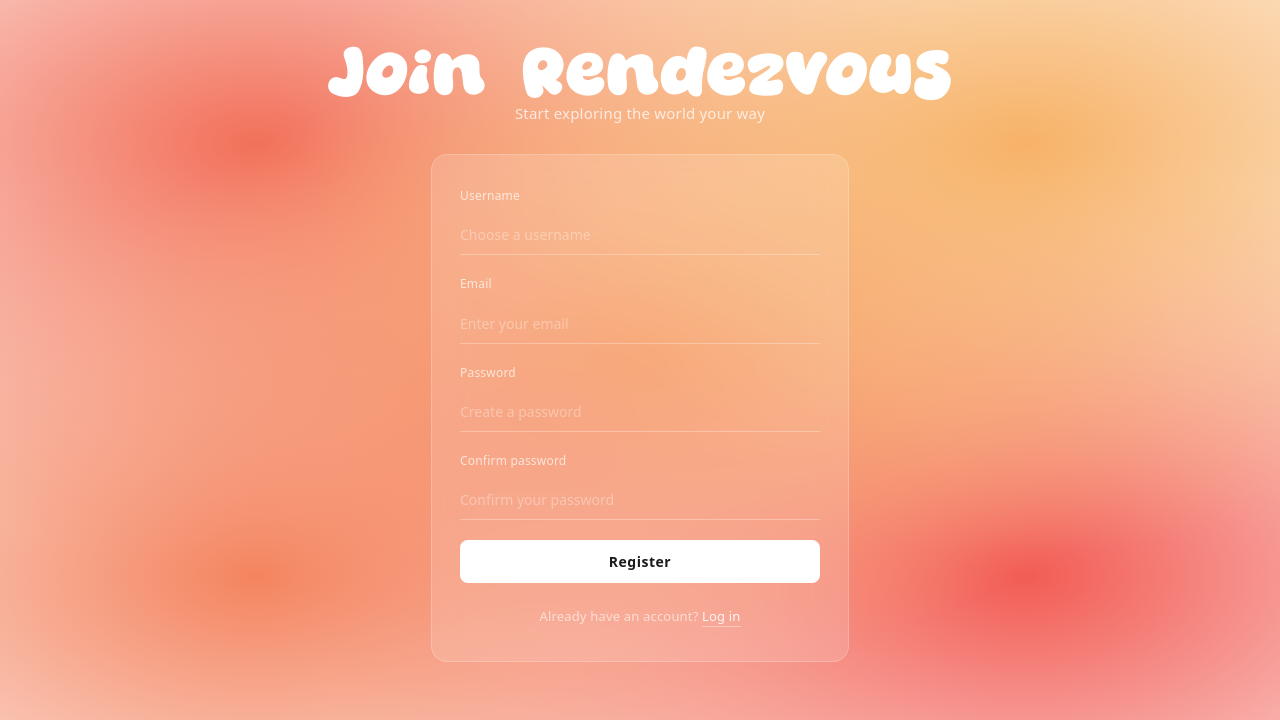
Scenario: Register page › shows field error from API
The width and height of the screenshot is (1280, 720).
Type "alice" into the field labelled "Username" at (640, 236), box [460, 216, 820, 256]
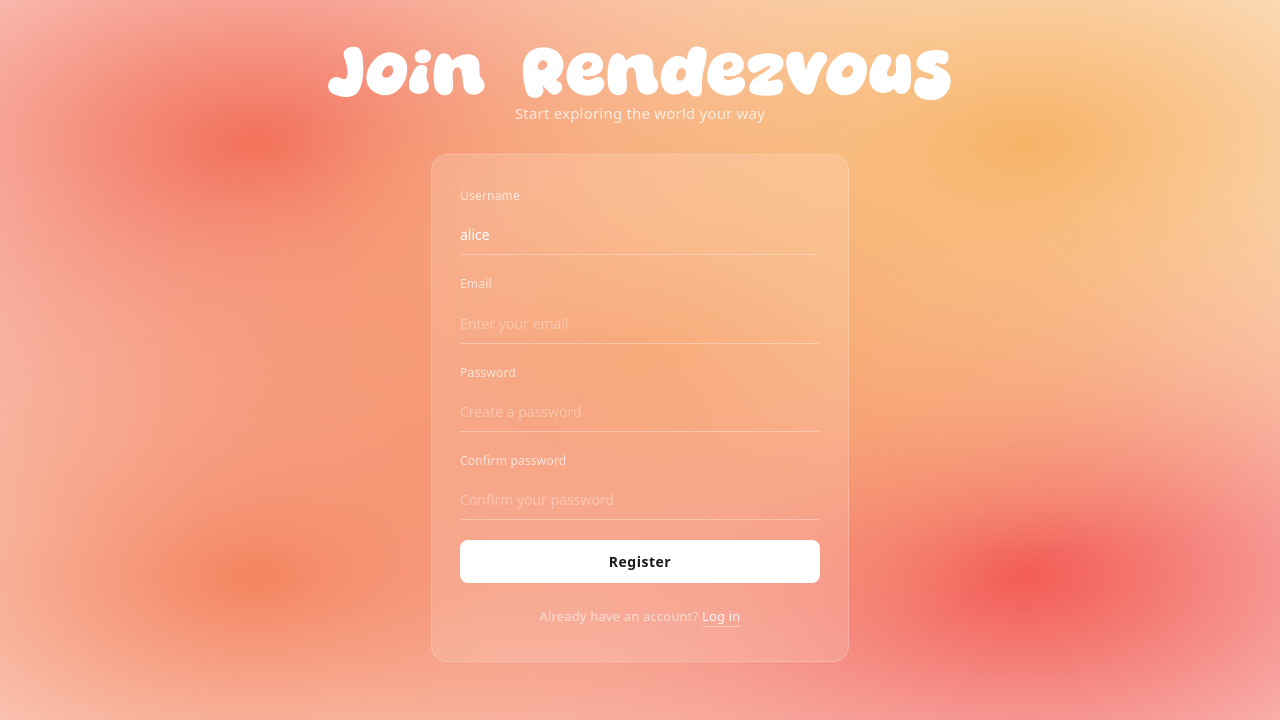
Type "a@b.com" into the field labelled "Email" at (640, 324), box [460, 304, 820, 344]
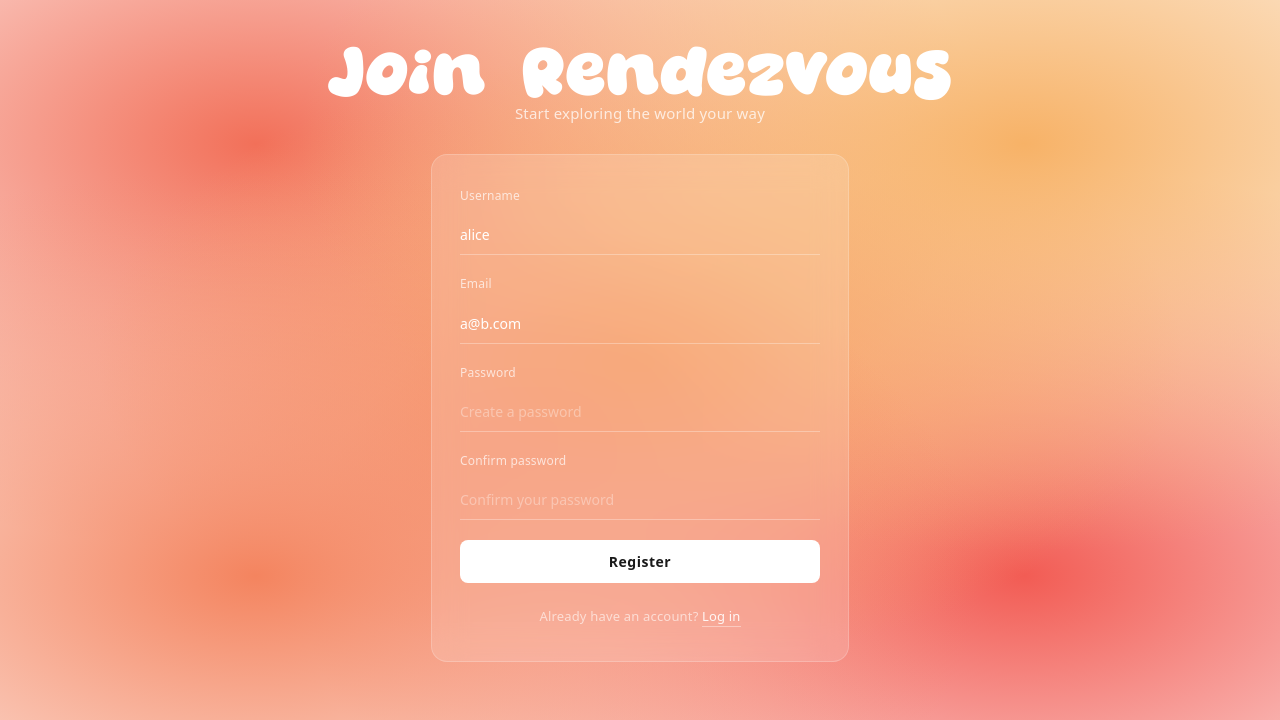
Type "Pass123!" into the password field labelled "Password" at (640, 412), box [460, 392, 820, 432]
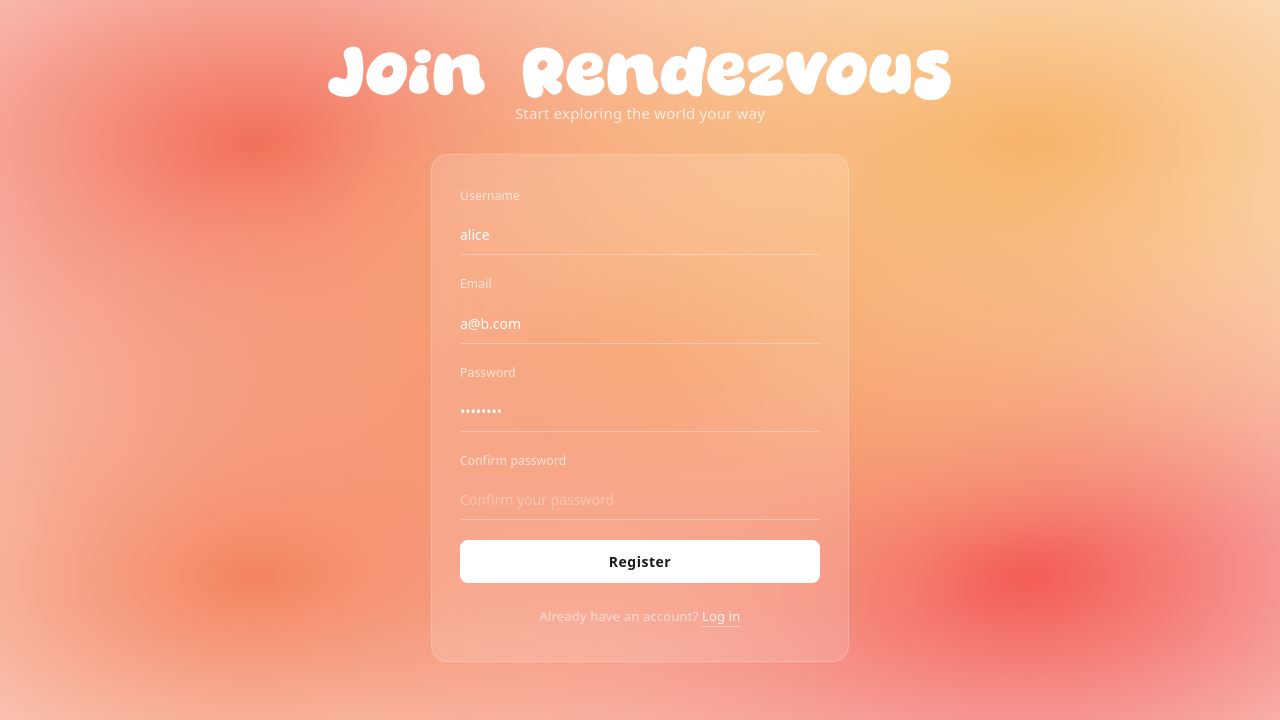
Type "Pass123!" into the password field labelled "Confirm password" at (640, 500), box [460, 480, 820, 520]
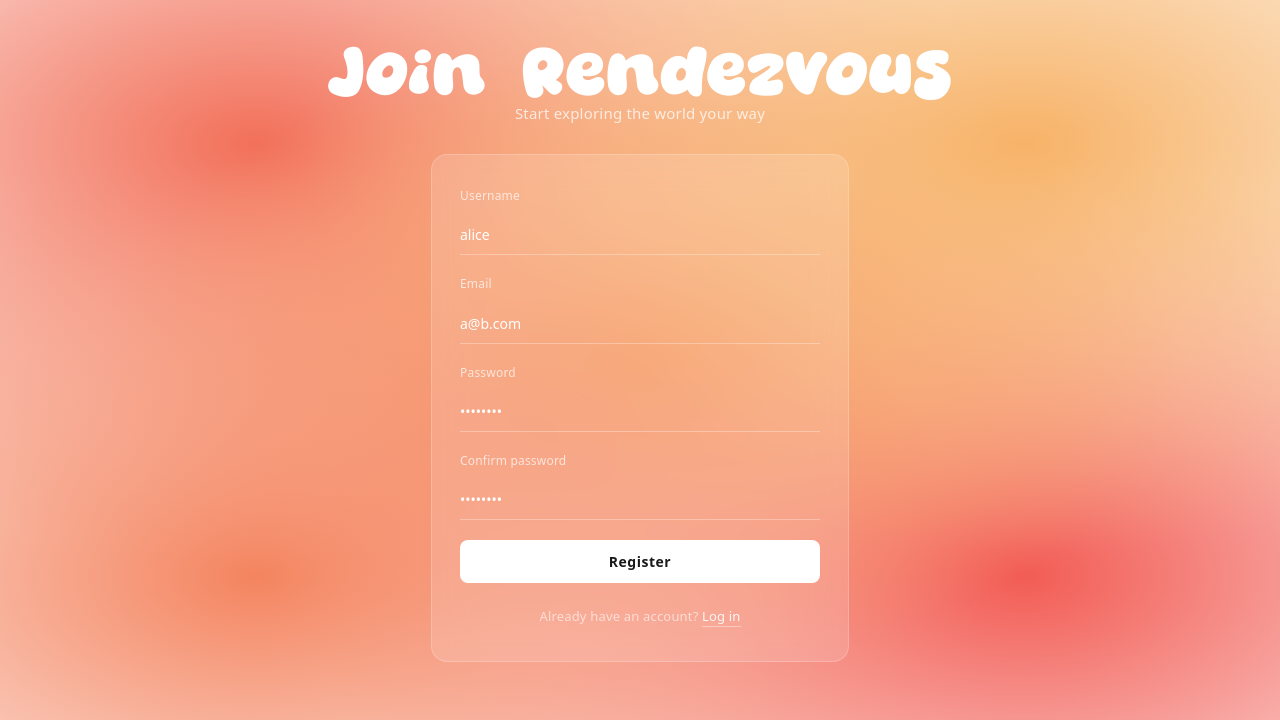
Click the button "Register" at (640, 561), box [460, 540, 820, 583]
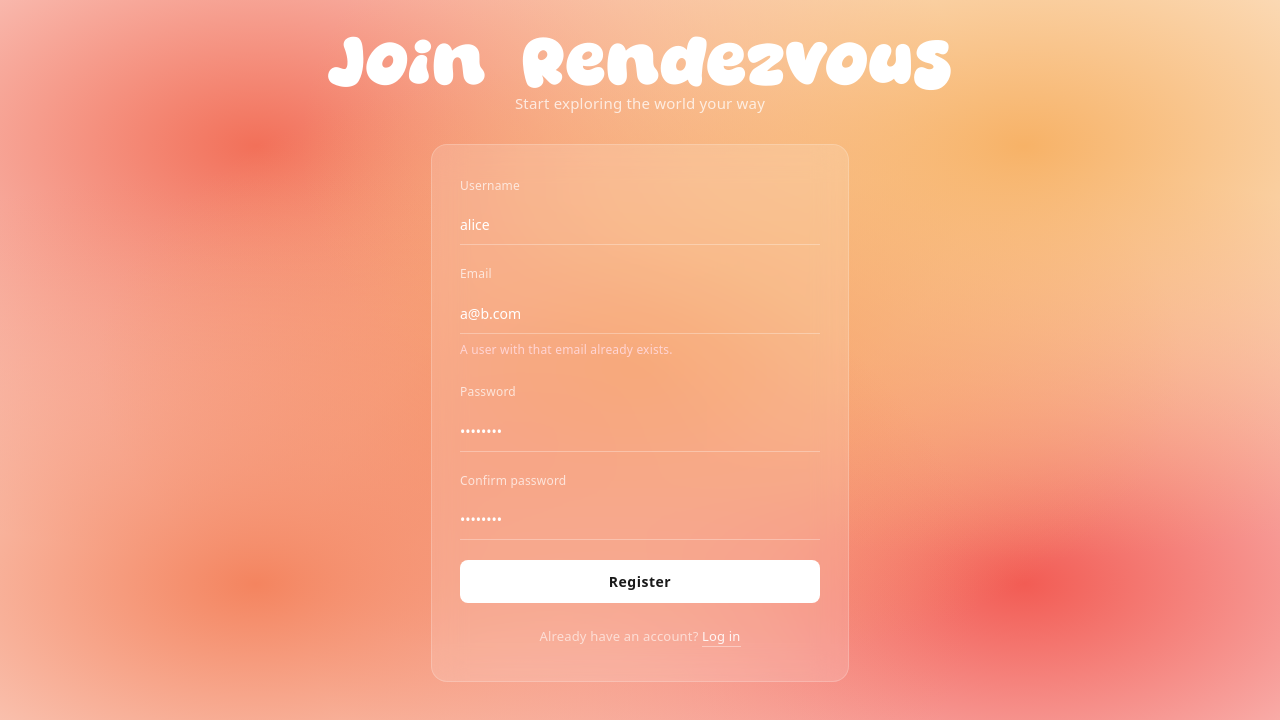
expect the text "A user with that email already exists." is shown: met, box [460, 341, 673, 358]
